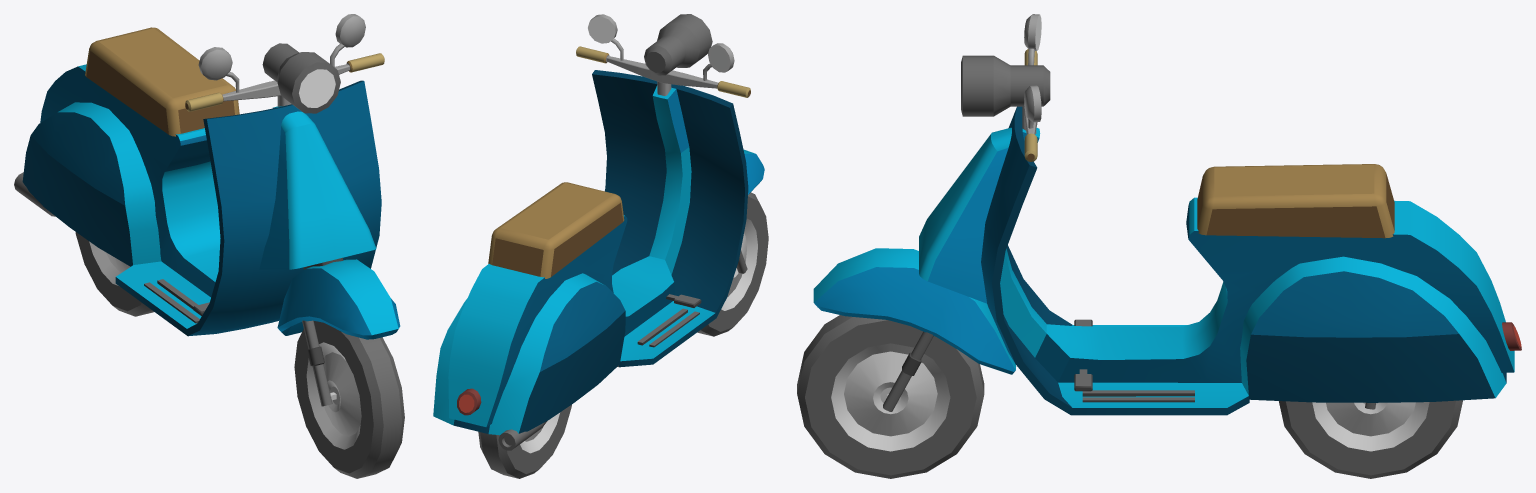
The model's file is Vespa.fbx.
3 renders of one model, left to right at view 1: azimuth 30°, elevation 25°; view 2: azimuth 150°, elevation 25°; view 3: azimuth 270°, elevation 25°, orthographic. The views are drawn at different scales.
Parts seen in each view (by area): view 1: Vespa, FrontWheelBase, FrontWheel, RearWheel; view 2: Vespa, FrontWheelBase, FrontWheel, RearWheel; view 3: Vespa, FrontWheel, FrontWheelBase, RearWheel.
Part boxes in pixels (x1=…): Vespa: x1=14, y1=27, x2=381, y2=336; FrontWheelBase: x1=185, y1=14, x2=400, y2=406; FrontWheel: x1=294, y1=321, x2=404, y2=478; RearWheel: x1=75, y1=232, x2=153, y2=316; Vespa: x1=433, y1=70, x2=748, y2=450; FrontWheelBase: x1=576, y1=14, x2=764, y2=273; FrontWheel: x1=697, y1=192, x2=768, y2=336; RearWheel: x1=478, y1=404, x2=571, y2=478; Vespa: x1=919, y1=106, x2=1521, y2=415; FrontWheel: x1=797, y1=315, x2=984, y2=478; FrontWheelBase: x1=813, y1=14, x2=1050, y2=411; RearWheel: x1=1279, y1=400, x2=1462, y2=478.
Size of the model in its own units: 70.42 by 134 by 208.
